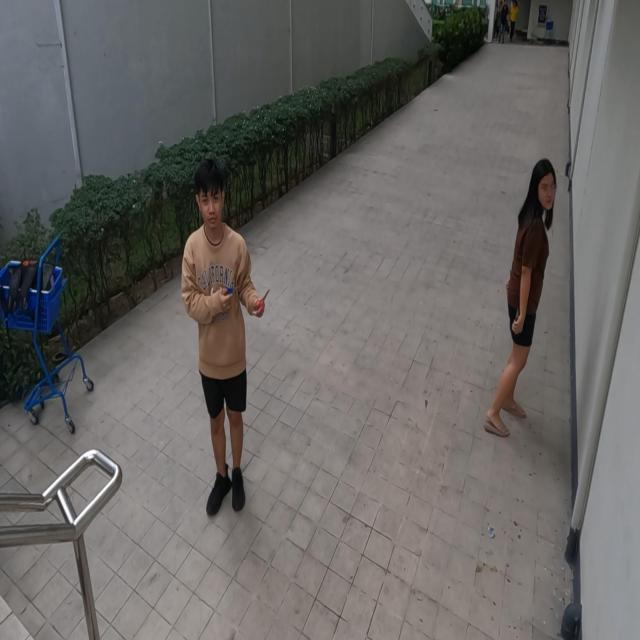scissor: (254, 290, 270, 318), (512, 306, 520, 339)
